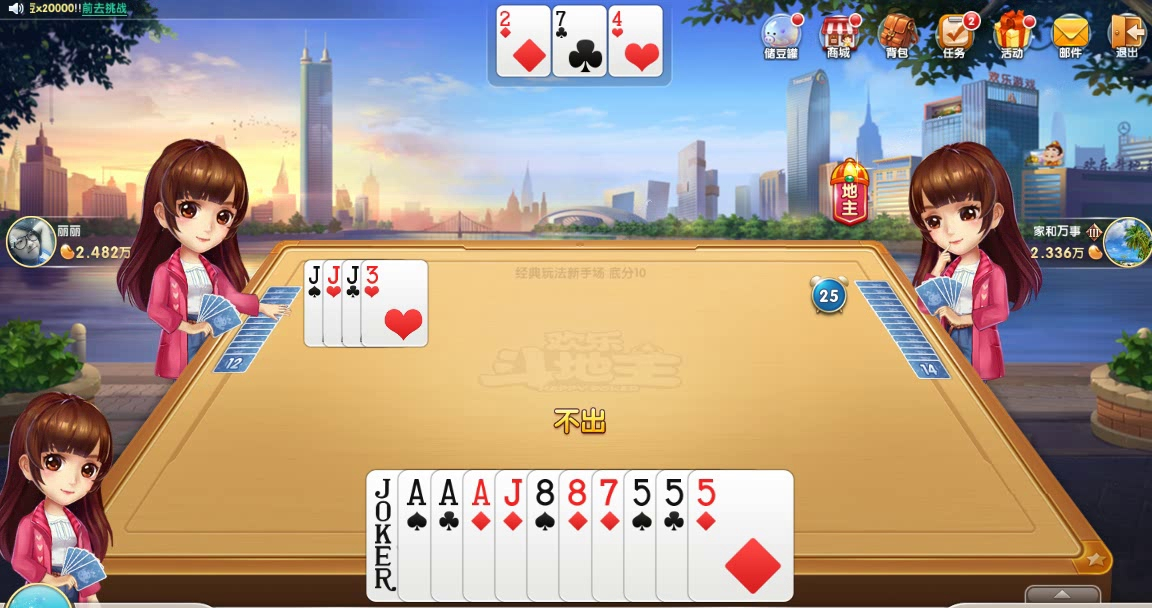11~1: (495, 469, 605, 601)
11~2: (340, 259, 408, 346)
11~3: (322, 259, 390, 346)
11~4: (304, 259, 372, 346)
14~1: (463, 469, 573, 601)
14~2: (430, 469, 540, 601)
14~4: (397, 469, 507, 601)
15~1: (496, 4, 551, 77)
17~3: (366, 469, 476, 601)
3~3: (360, 259, 428, 346)
4~3: (609, 4, 664, 77)
5~1: (686, 469, 796, 601)
5~2: (656, 469, 766, 601)
5~4: (623, 469, 733, 601)
7~1: (591, 469, 701, 601)
7~2: (553, 4, 608, 77)
8~1: (559, 469, 669, 601)
8~4: (527, 469, 637, 601)
